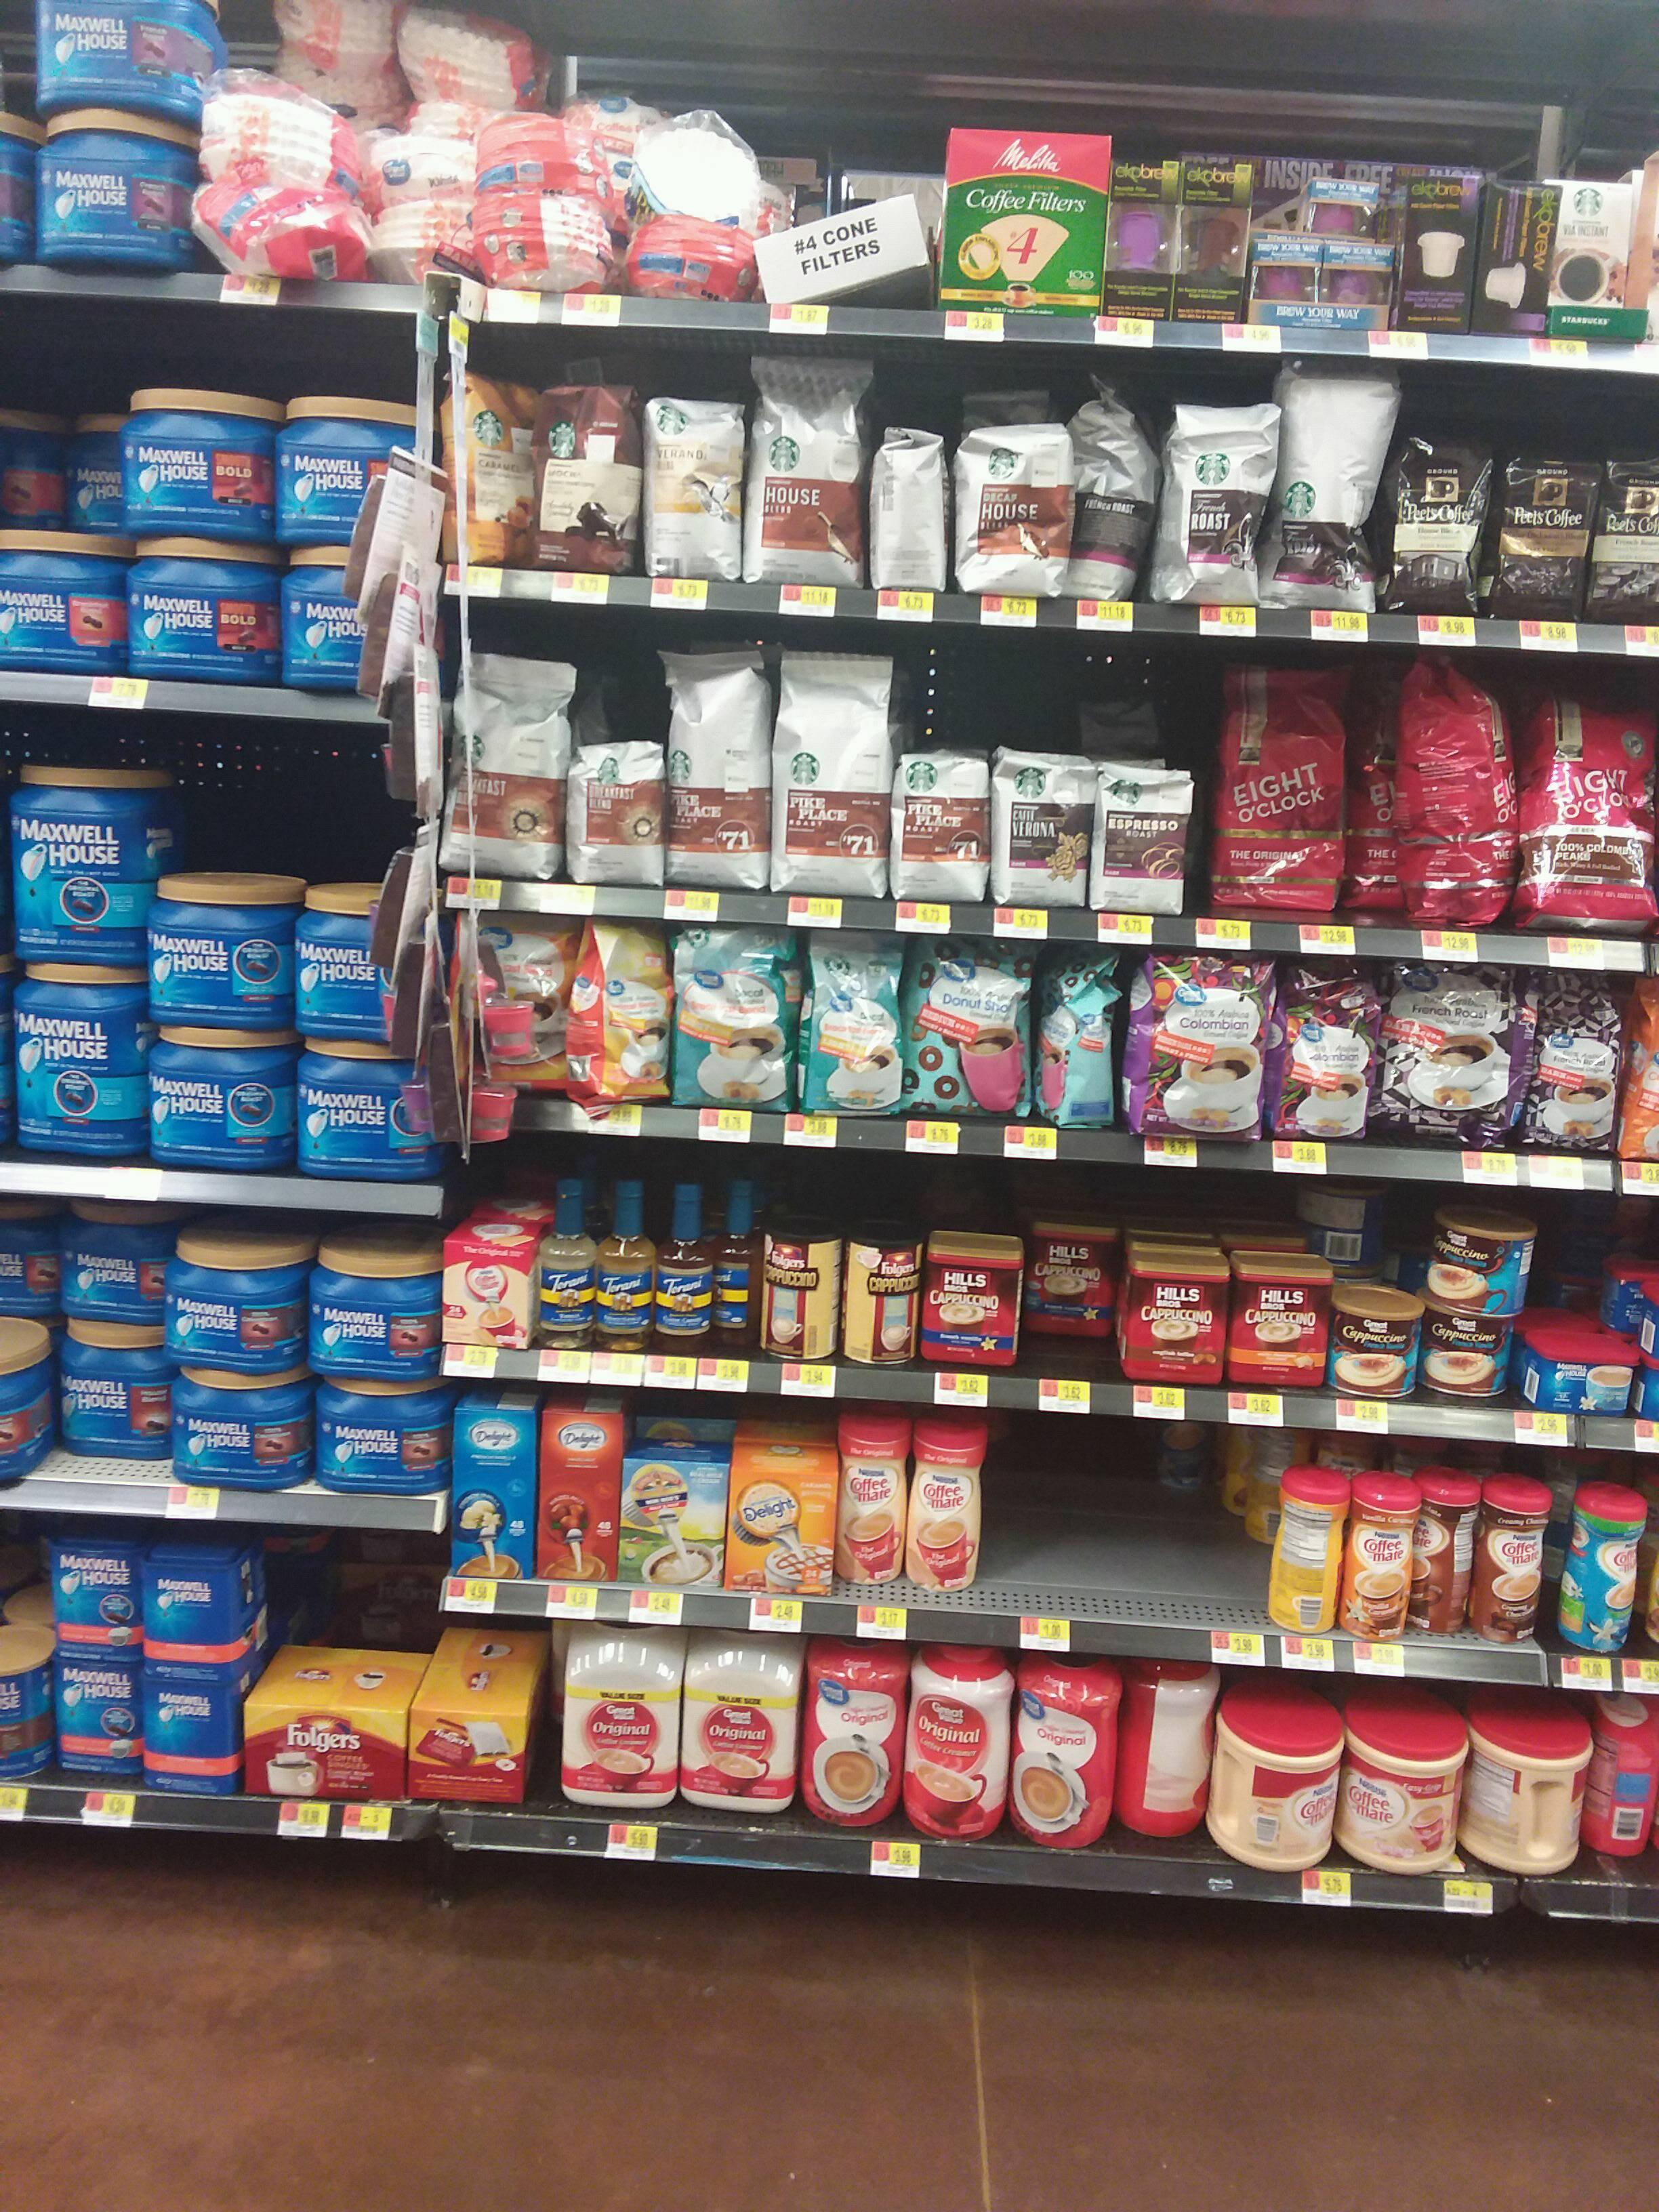empty: (265, 1524, 420, 1700), (995, 1411, 1089, 1604), (1103, 1423, 1197, 1616), (160, 761, 298, 892), (268, 770, 406, 899), (1025, 1280, 1119, 1390)
